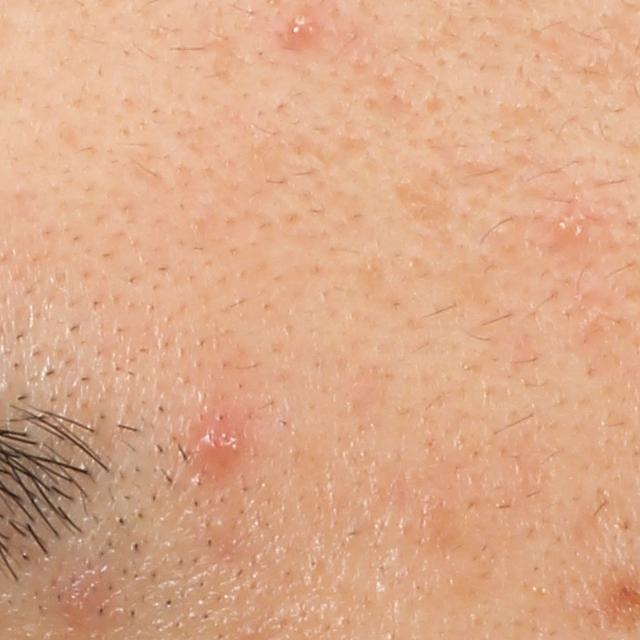papule: (188, 411, 248, 470), (51, 568, 110, 625)
